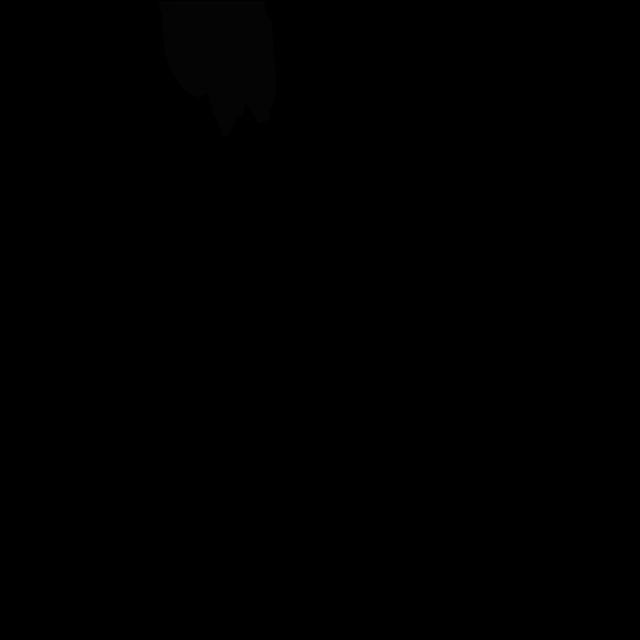soft_plastic: (154, 1, 276, 137)
